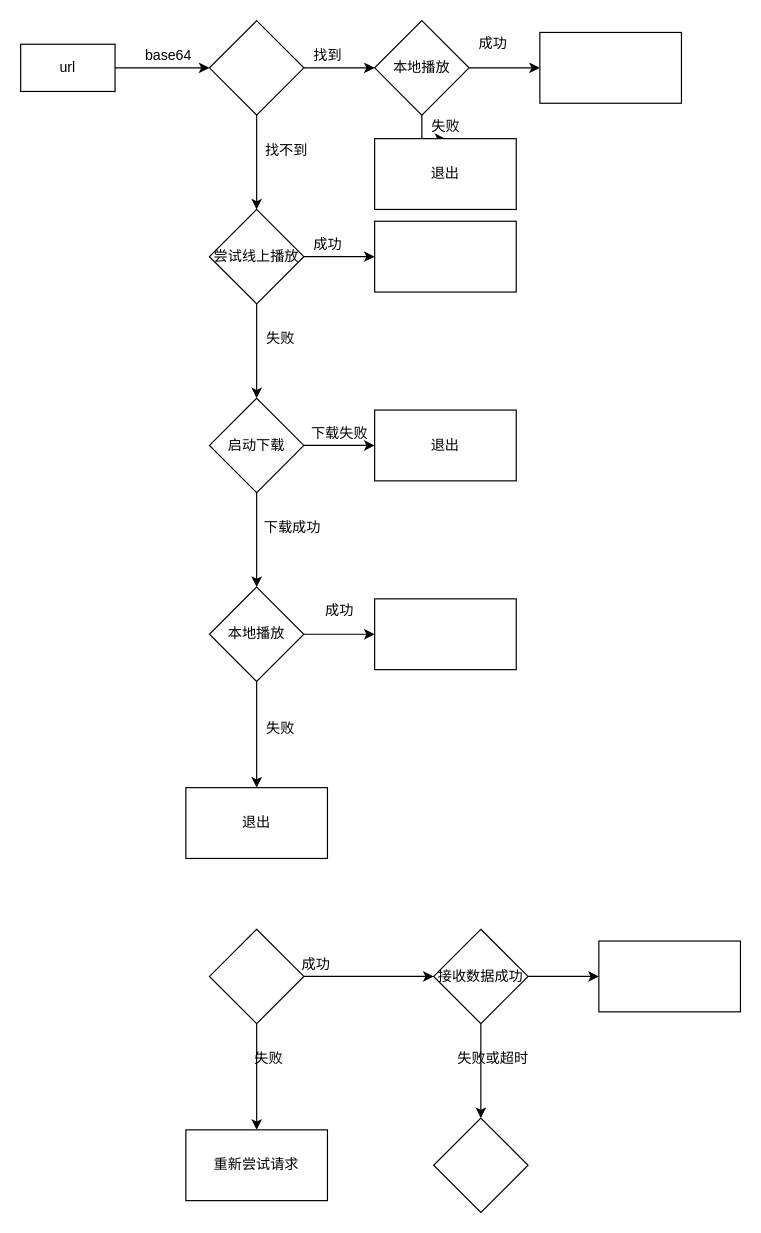
Some shapes in this 761 by 1233 pixel diagram are drawn without their labels. Here are the shapes that lost their labels. From the top down, the box of each, then its label:
(208, 19, 304, 115): 在本地查找
(373, 220, 516, 292): 直接播放
(208, 928, 304, 1024): 请求接收数据
(598, 940, 740, 1012): 播放
(432, 1117, 528, 1212): 提示失败
